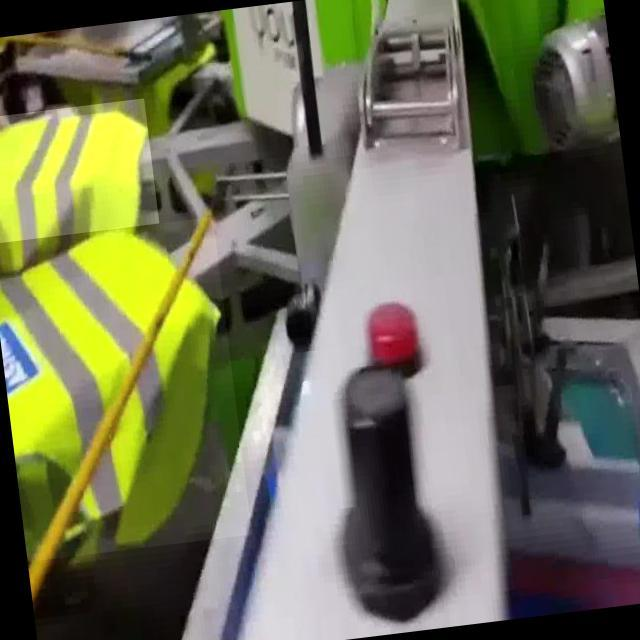Safety Vest: (0, 217, 251, 562), (0, 97, 163, 276)
